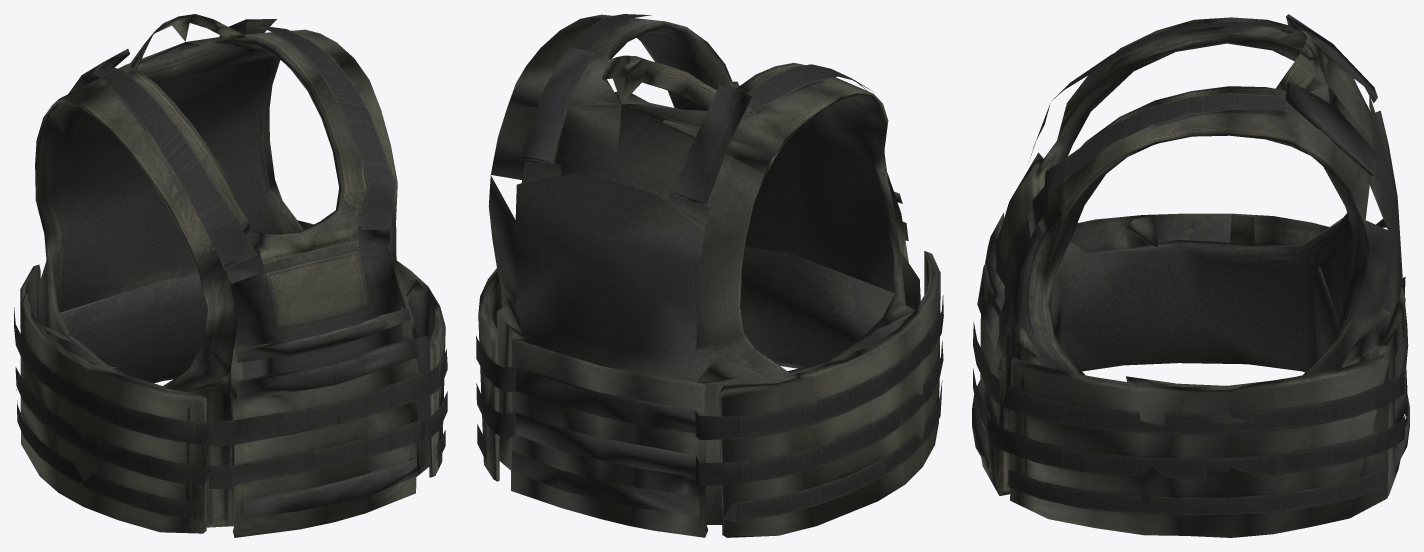
The model's file is colete.glb.
3 renders of one model, left to right at view 1: azimuth 30°, elevation 25°; view 2: azimuth 150°, elevation 25°; view 3: azimuth 270°, elevation 25°, orthographic. The views are drawn at different scales.
Visible parts, largest first — view 1: mesh_node; view 2: mesh_node; view 3: mesh_node.
Boxes of the visible parts, left/top/right/bottom form: mesh_node: left=14, top=14, right=447, bottom=537; mesh_node: left=476, top=14, right=943, bottom=537; mesh_node: left=972, top=14, right=1409, bottom=537.
Size of the model in its own units: 0.00376 by 0.004 by 0.00386.
1 material, 1 textured.
